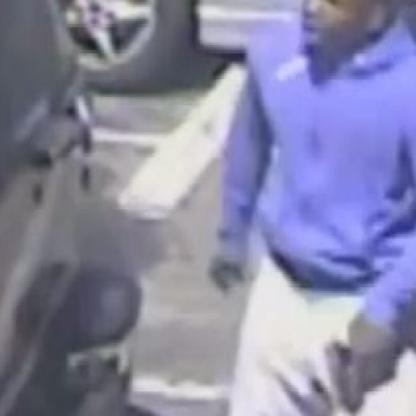gun: (316, 302, 373, 414)
